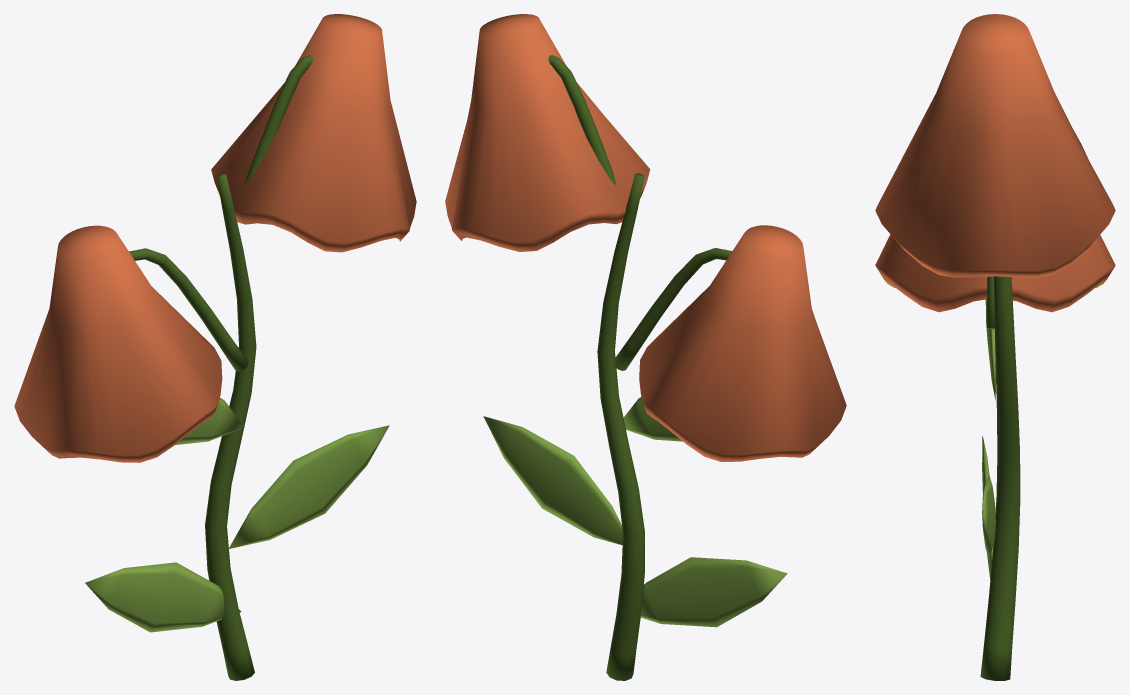
The model's file is garden_bellflower.glb.
3 views of the same model, side by side, from view 1: azimuth 30°, elevation 25°; view 2: azimuth 150°, elevation 25°; view 3: azimuth 270°, elevation 25° (orthographic). The views are drawn at different scales.
Visible parts, largest first — view 1: NaturalGeometryGeometry; view 2: NaturalGeometryGeometry; view 3: NaturalGeometryGeometry.
Part boxes in pixels (left/top/right/bottom): NaturalGeometryGeometry: left=14, top=14, right=416, bottom=680; NaturalGeometryGeometry: left=445, top=14, right=846, bottom=680; NaturalGeometryGeometry: left=875, top=14, right=1115, bottom=680.
Bounding box in the file's own units: 1.12 × 1.82 × 0.556.
